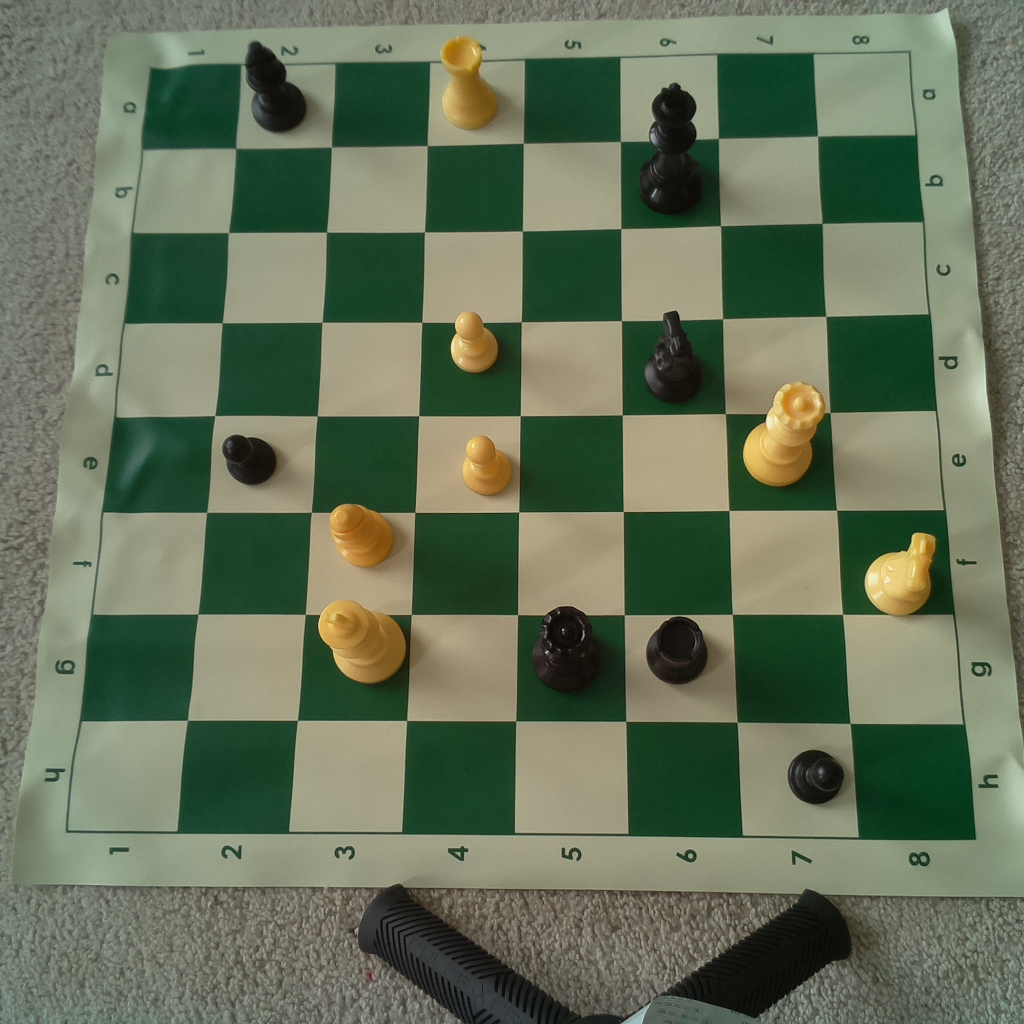black_bishop: (240, 34, 308, 136)
black_king: (636, 82, 705, 214)
black_knight: (638, 304, 708, 408)
black_pawn: (783, 741, 849, 813), (218, 426, 279, 488)
black_queen: (524, 602, 606, 693)
black_rook: (644, 610, 711, 688)
file_a: (142, 53, 918, 152)
file_b: (132, 138, 925, 234)
file_c: (125, 219, 932, 325)
file_d: (115, 314, 940, 417)
file_e: (102, 410, 945, 512)
file_f: (94, 510, 953, 613)
file_g: (79, 613, 966, 722)
file_h: (64, 722, 976, 840)
outline: (66, 51, 976, 840)
rank_1: (66, 61, 242, 830)
rank_2: (177, 61, 336, 834)
rank_3: (288, 60, 432, 836)
rank_4: (399, 58, 525, 834)
rank_5: (512, 58, 629, 838)
rank_6: (625, 54, 742, 835)
rank_7: (719, 54, 862, 836)
rank_8: (811, 56, 975, 838)
white_bishop: (324, 499, 398, 567)
white_king: (311, 592, 408, 687)
white_knight: (859, 525, 940, 617)
white_pawn: (442, 306, 506, 375), (457, 426, 516, 497)
white_queen: (734, 377, 827, 486)
white_rook: (431, 31, 502, 130)
